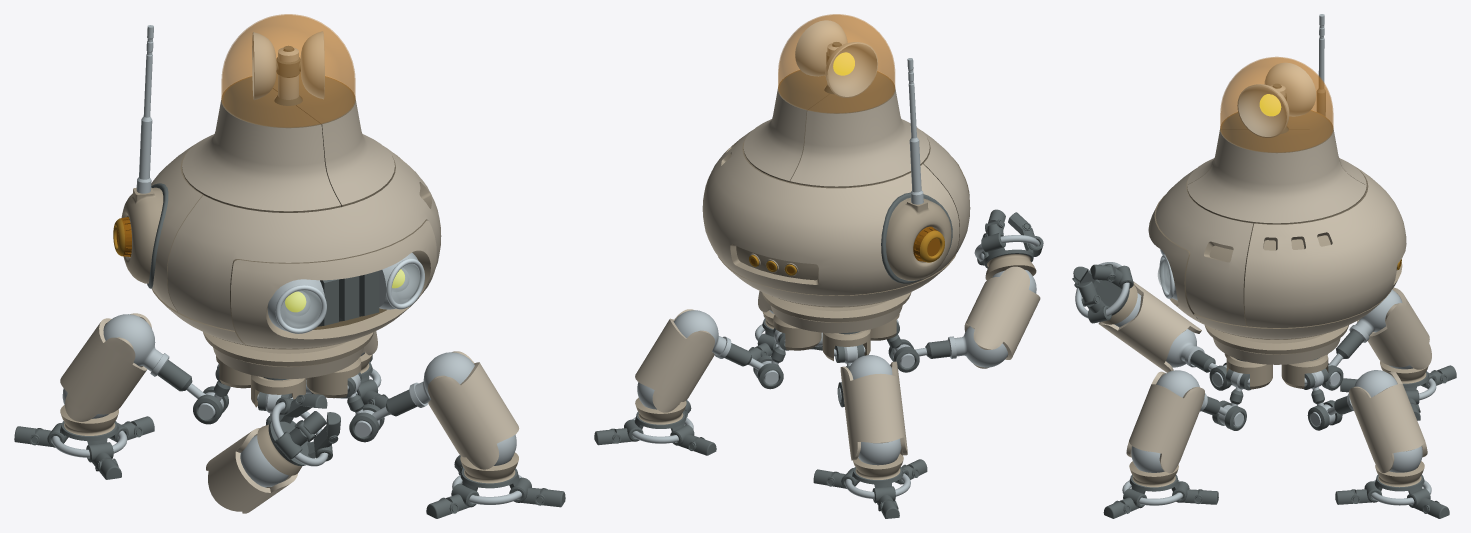
The model's file is policer.glb.
3 renders of one model, left to right at view 1: azimuth 30°, elevation 25°; view 2: azimuth 150°, elevation 25°; view 3: azimuth 270°, elevation 25°, orthographic. The views are drawn at different scales.
Parts seen in each view (by area): view 1: Cylinder.027, Cylinder.028, Sphere.007, Cylinder.049, Cylinder.009, Cylinder.021, Cylinder.001, Cylinder.056, Cylinder.036, Cylinder.051, Sphere.021, Sphere.005 (+26 smaller); view 2: Cylinder.051, Cylinder.027, Sphere.007, Cylinder.015, Cylinder.021, Cylinder.056, Cylinder.036, Sphere.021, Cylinder.001, Cylinder.050, Cylinder.028, Sphere.014 (+18 smaller); view 3: Cylinder.051, Cylinder.027, Sphere.007, Cylinder.028, Cylinder.009, Cylinder.015, Sphere.021, Cylinder.036, Cylinder.001, Cylinder.021, Cylinder.050, Cylinder.049 (+22 smaller).
Boxes of the visible parts, left/top/right/bottom form: Cylinder.027: left=182, top=72, right=394, bottom=212; Cylinder.028: left=167, top=156, right=441, bottom=330; Sphere.007: left=221, top=14, right=355, bottom=127; Cylinder.049: left=230, top=219, right=436, bottom=348; Cylinder.009: left=427, top=351, right=519, bottom=469; Cylinder.021: left=60, top=313, right=151, bottom=421; Cylinder.001: left=203, top=332, right=373, bottom=378; Cylinder.056: left=113, top=187, right=163, bottom=283; Cylinder.036: left=206, top=428, right=297, bottom=513; Cylinder.051: left=151, top=141, right=419, bottom=311; Sphere.021: left=252, top=31, right=324, bottom=99; Sphere.005: left=267, top=252, right=419, bottom=331; Cylinder.051: left=702, top=130, right=959, bottom=295; Cylinder.027: left=743, top=70, right=929, bottom=187; Sphere.007: left=778, top=14, right=894, bottom=113; Cylinder.015: left=635, top=309, right=714, bottom=412; Cylinder.021: left=840, top=361, right=907, bottom=460; Cylinder.056: left=886, top=197, right=951, bottom=280; Cylinder.036: left=964, top=266, right=1040, bottom=368; Sphere.021: left=795, top=20, right=878, bottom=97; Cylinder.001: left=762, top=292, right=911, bottom=333; Cylinder.050: left=718, top=253, right=956, bottom=306; Cylinder.028: left=920, top=130, right=970, bottom=263; Sphere.014: left=845, top=454, right=910, bottom=498; Cylinder.051: left=1243, top=166, right=1406, bottom=327; Cylinder.027: left=1187, top=110, right=1366, bottom=224; Sphere.007: left=1220, top=57, right=1333, bottom=152; Cylinder.028: left=1155, top=168, right=1253, bottom=326; Cylinder.009: left=1126, top=371, right=1204, bottom=473; Cylinder.015: left=1349, top=371, right=1427, bottom=473; Sphere.021: left=1237, top=62, right=1316, bottom=137; Cylinder.036: left=1098, top=281, right=1201, bottom=372; Cylinder.001: left=1204, top=325, right=1348, bottom=364; Cylinder.021: left=1357, top=287, right=1431, bottom=369; Cylinder.050: left=1194, top=291, right=1390, bottom=339; Cylinder.049: left=1148, top=195, right=1203, bottom=324.
Bounding box in the file's own units: 404 × 496 × 451.
